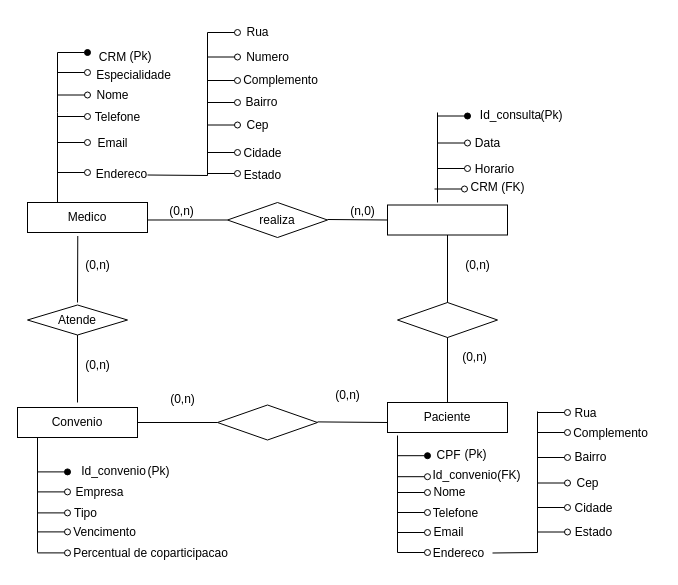
The diagram is 678 pixels wide and 585 high, and some of its shapes have lost their labels. The shapes that lost their labels are listed below. From the top down, each one's box as (x1, y1, x2, y2) in pixels, then its label:
(386, 204, 508, 235): Consulta
(396, 302, 498, 338): agendada
(216, 404, 318, 440): Possui
